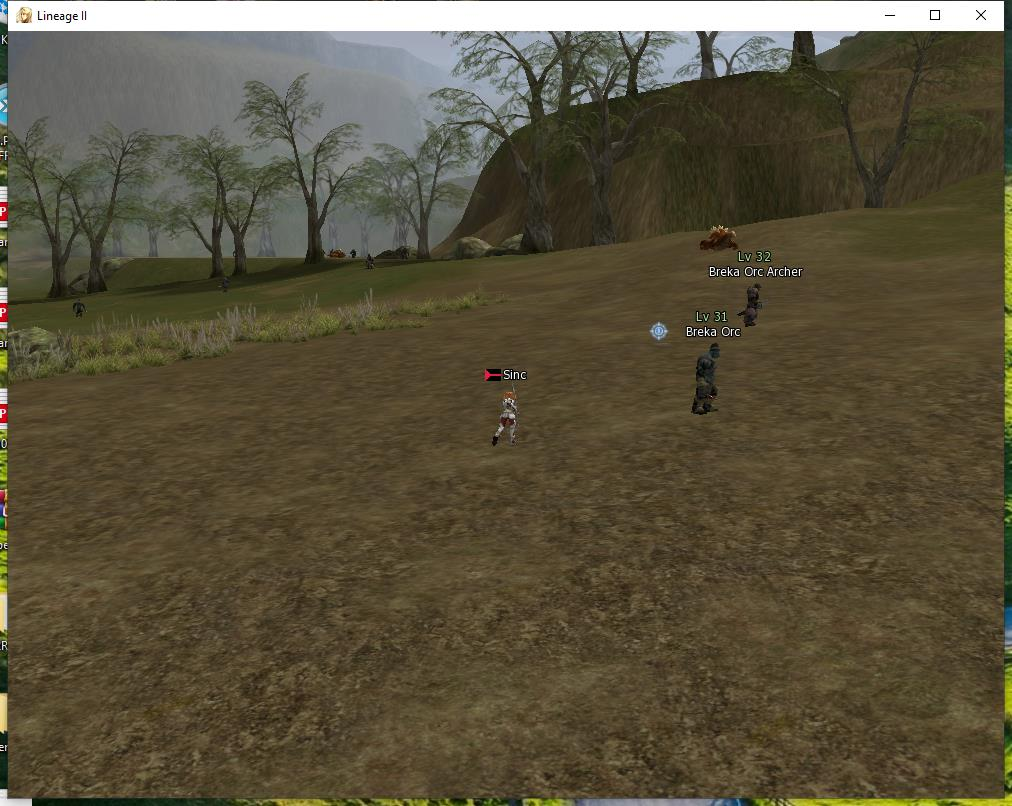monster: (702, 252, 807, 321), (682, 311, 732, 420), (694, 215, 759, 263)
